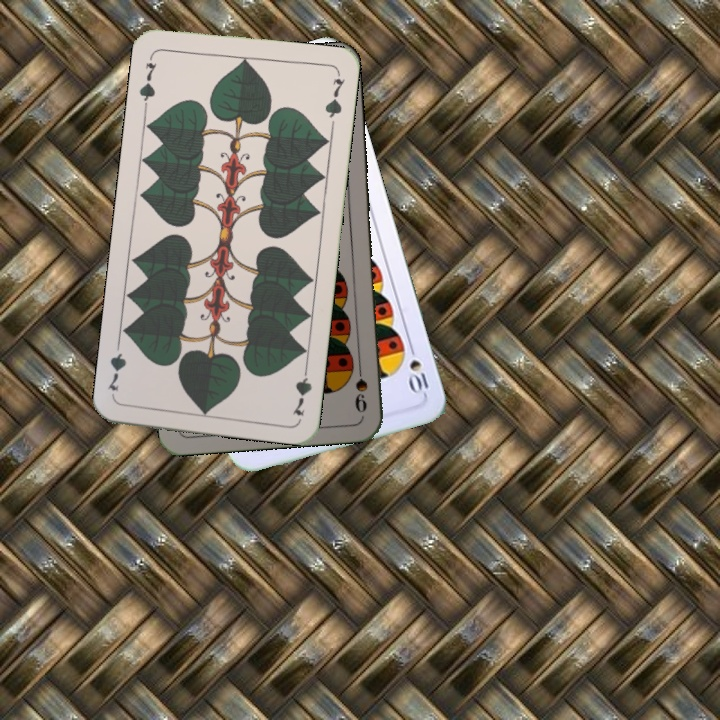G7: (288, 360, 315, 419), (135, 51, 160, 110)
S10: (404, 339, 431, 397)
S9: (350, 356, 371, 416)
